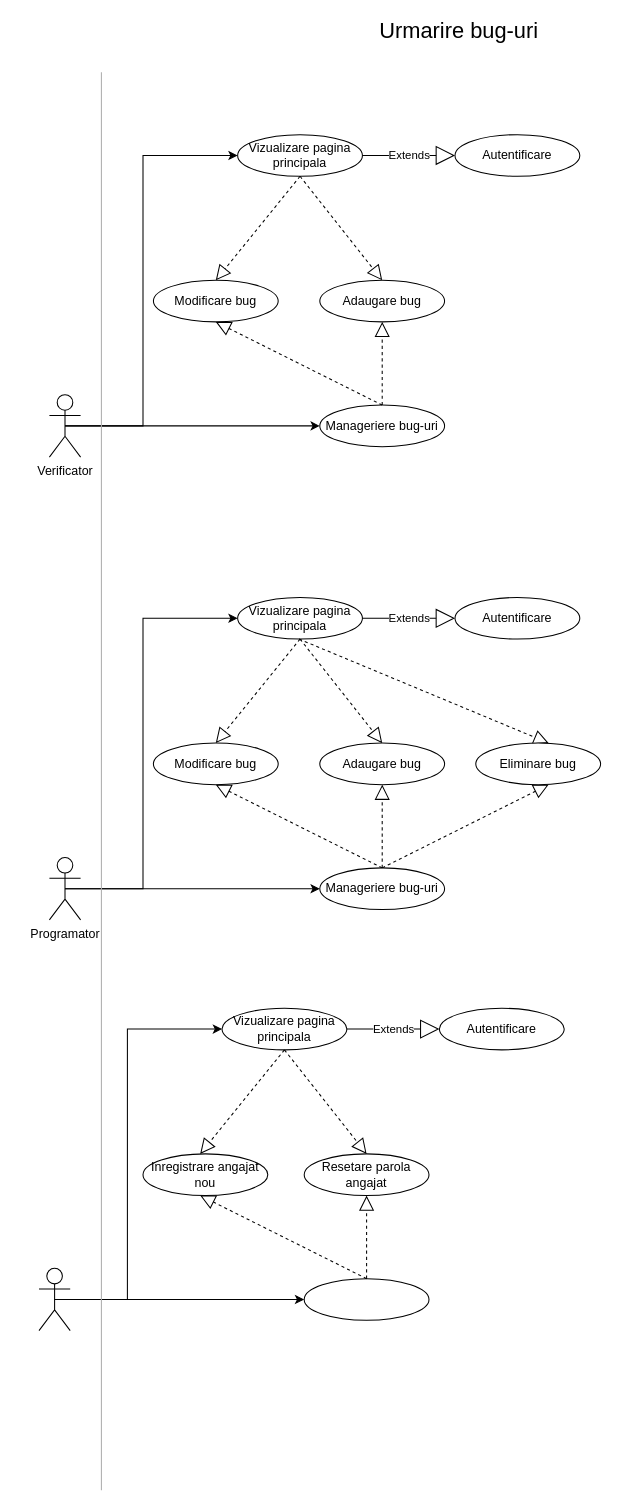
Some shapes in this 619 by 1510 pixel diagram are drawn without their labels. Here are the shapes that lost their labels. From the top down, the centre of each, then its label:
(54,1299): Administrator
(366,1299): Manageriere angajati
